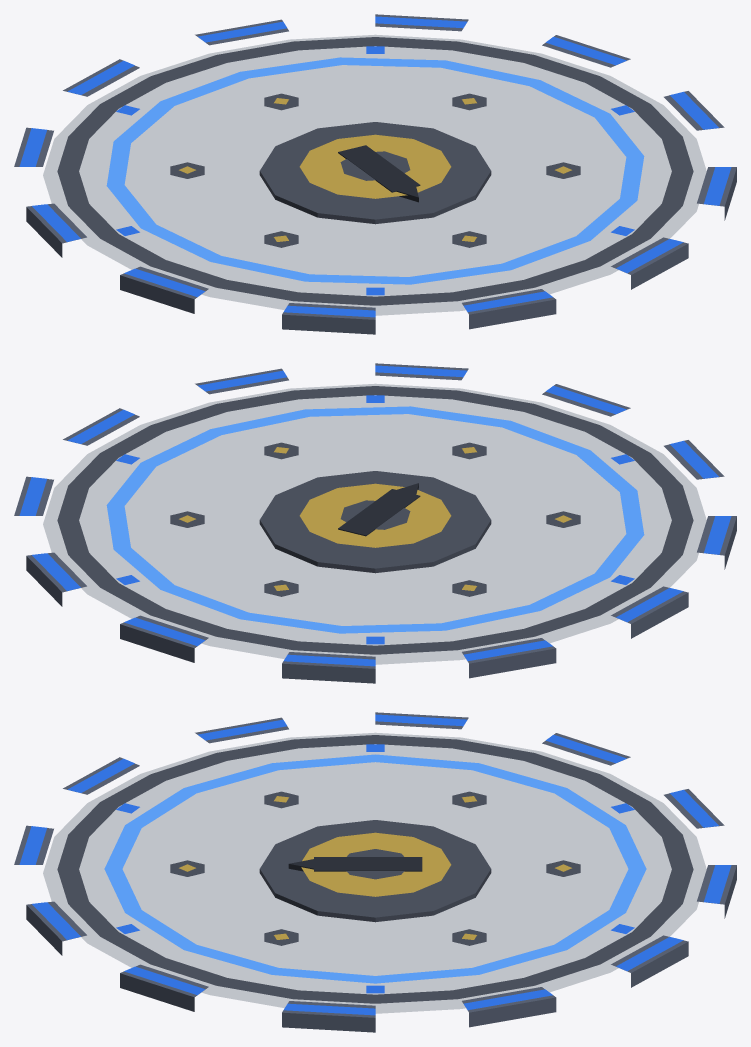
The model's file is mortar_super_rare_area.glb.
3 renders of one model, top to bottom at view 1: azimuth 30°, elevation 25°; view 2: azimuth 150°, elevation 25°; view 3: azimuth 270°, elevation 25°, orthographic.
Visible parts, largest first — view 1: mortar_super_rare_area; view 2: mortar_super_rare_area; view 3: mortar_super_rare_area.
Boxes of the visible parts, bbox=[...] form: mortar_super_rare_area: bbox=[14, 14, 736, 334]; mortar_super_rare_area: bbox=[14, 363, 736, 683]; mortar_super_rare_area: bbox=[14, 712, 736, 1032].
Bounding box in the file's own units: 2 × 0.049 × 2.
2 materials, 2 textured.
